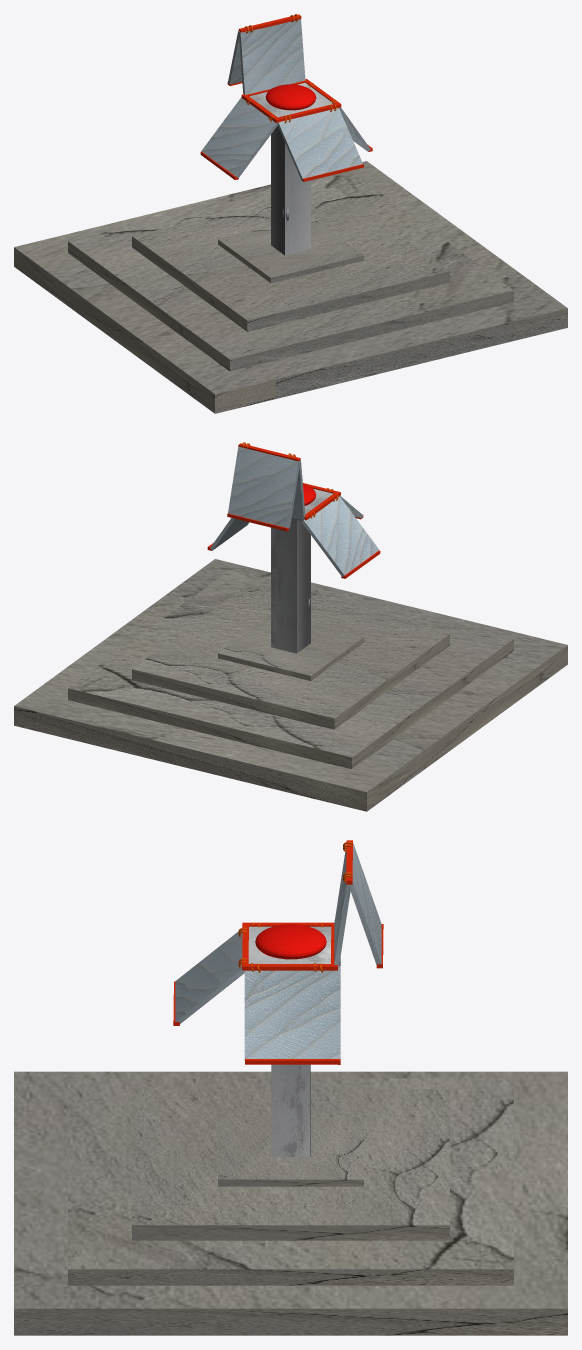
File: butto stand.fbx
3 renders of one model, top to bottom at view 1: azimuth 30°, elevation 25°; view 2: azimuth 150°, elevation 25°; view 3: azimuth 270°, elevation 25°, orthographic. The views are drawn at different scales.
Parts seen in each view (by area): view 1: Cube, Cube.001, Cube.002, Cube.003, Cube.006, Cube.009, Cube.004, Cube.007, Sphere, Cube.005; view 2: Cube, Cube.001, Cube.002, Cube.004, Cube.003, Cube.010, Cube.007, Cube.006; view 3: Cube, Cube.001, Cube.002, Cube.003, Cube.008, Cube.004, Cube.009, Sphere, Cube.010, Cube.005, Cube.006, Cube.011.
Boxes of the visible parts, bbox=[...] form: Cube: bbox=[14, 161, 567, 413]; Cube.001: bbox=[68, 172, 513, 371]; Cube.002: bbox=[132, 187, 449, 331]; Cube.003: bbox=[218, 217, 363, 283]; Cube.006: bbox=[238, 19, 305, 94]; Cube.009: bbox=[277, 108, 362, 180]; Cube.004: bbox=[271, 126, 310, 255]; Cube.007: bbox=[201, 97, 277, 178]; Sphere: bbox=[265, 84, 316, 110]; Cube.005: bbox=[249, 82, 332, 123]; Cube: bbox=[14, 559, 567, 811]; Cube.001: bbox=[68, 570, 513, 769]; Cube.002: bbox=[132, 585, 449, 729]; Cube.004: bbox=[271, 518, 310, 653]; Cube.003: bbox=[218, 614, 363, 680]; Cube.010: bbox=[228, 446, 299, 528]; Cube.007: bbox=[301, 496, 379, 576]; Cube.006: bbox=[292, 460, 305, 519]; Cube: bbox=[14, 1071, 567, 1335]; Cube.001: bbox=[68, 1078, 513, 1285]; Cube.002: bbox=[132, 1089, 449, 1240]; Cube.003: bbox=[218, 1117, 363, 1186]; Cube.008: bbox=[244, 966, 340, 1060]; Cube.004: bbox=[271, 1064, 310, 1156]; Cube.009: bbox=[175, 930, 244, 1023]; Sphere: bbox=[255, 924, 326, 959]; Cube.010: bbox=[349, 843, 381, 964]; Cube.005: bbox=[244, 926, 331, 970]; Cube.006: bbox=[334, 844, 351, 965]; Cube.011: bbox=[242, 964, 337, 970].
Bounding box in the file's own units: 848 × 600 × 837.
6 materials, 3 textured.
